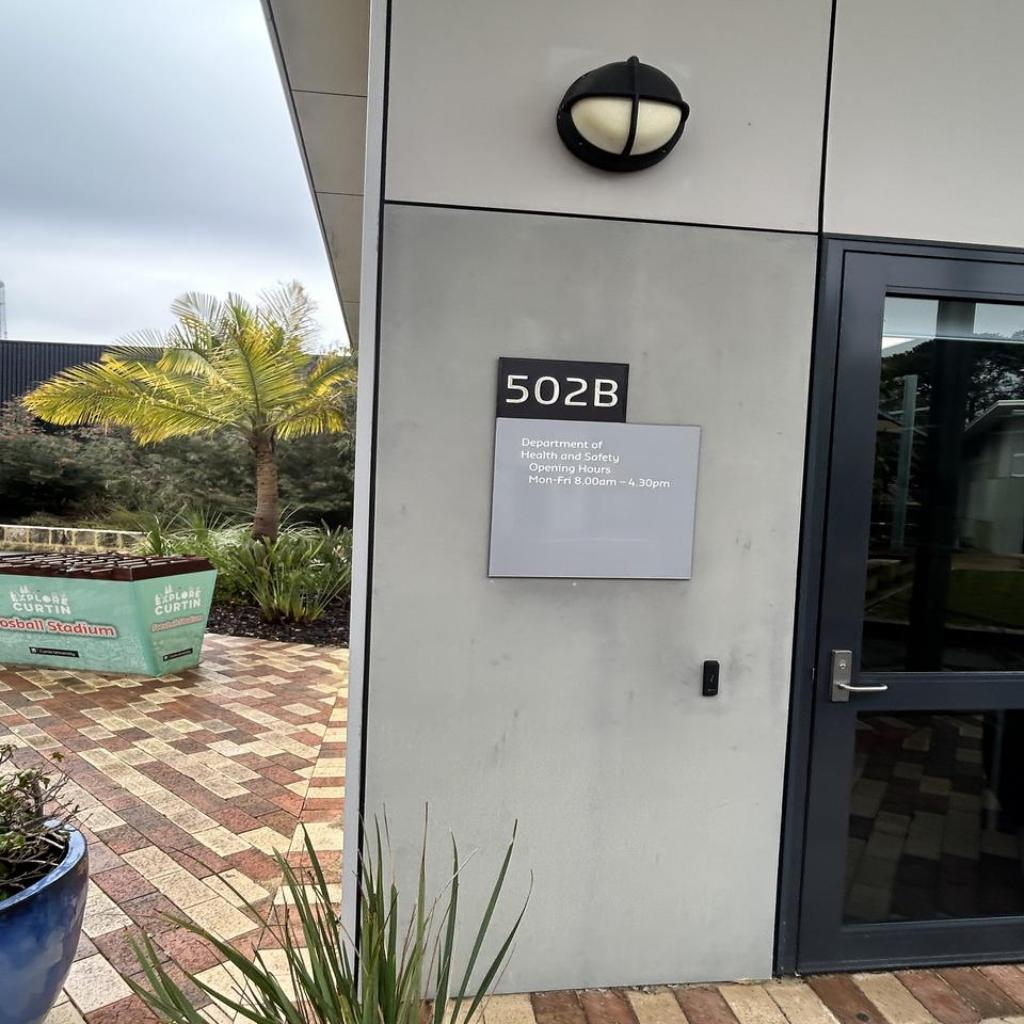BuildingCodes: (502, 370, 620, 410)
